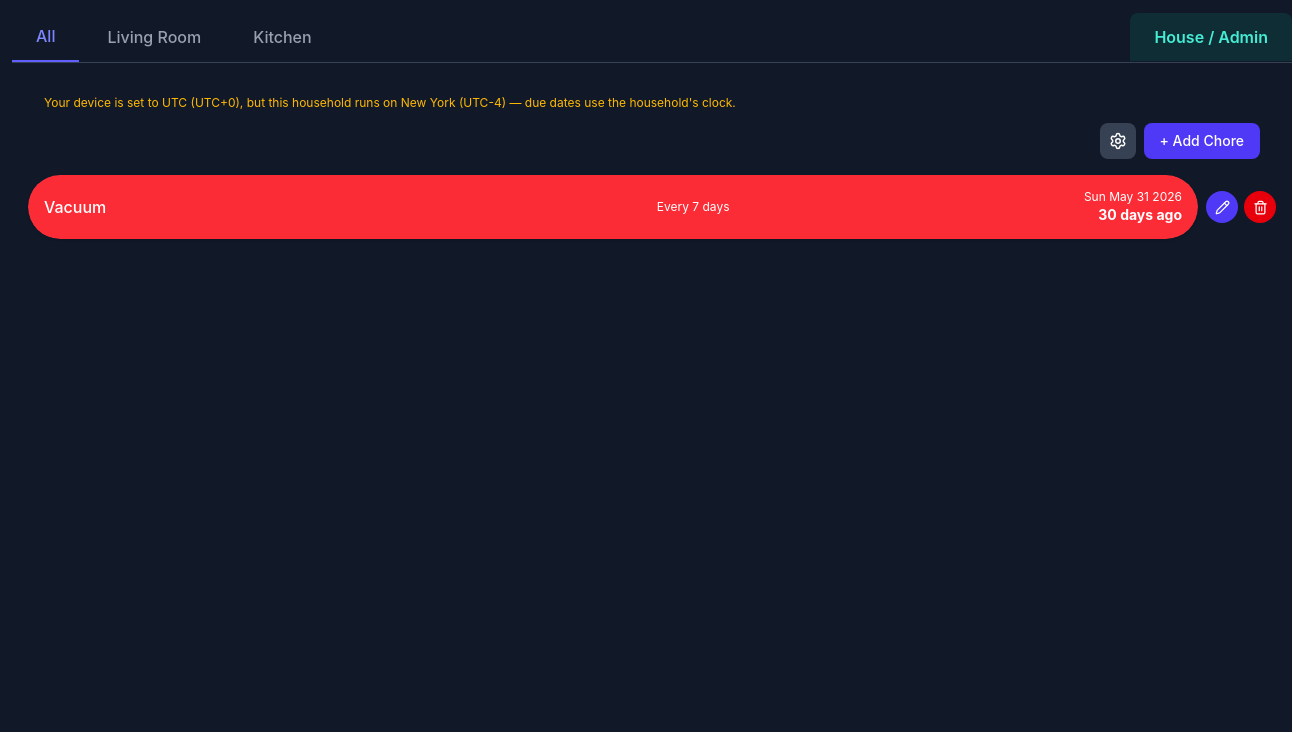
it: App › navigates back to Home when a room tab is clicked while on the Admin page
Expected: the text "Vacuum" is shown, x1=44 y1=197 x2=106 y2=217
Click the link with test id "admin-nav-link": (1211, 37) x1=1130 y1=13 x2=1291 y2=61
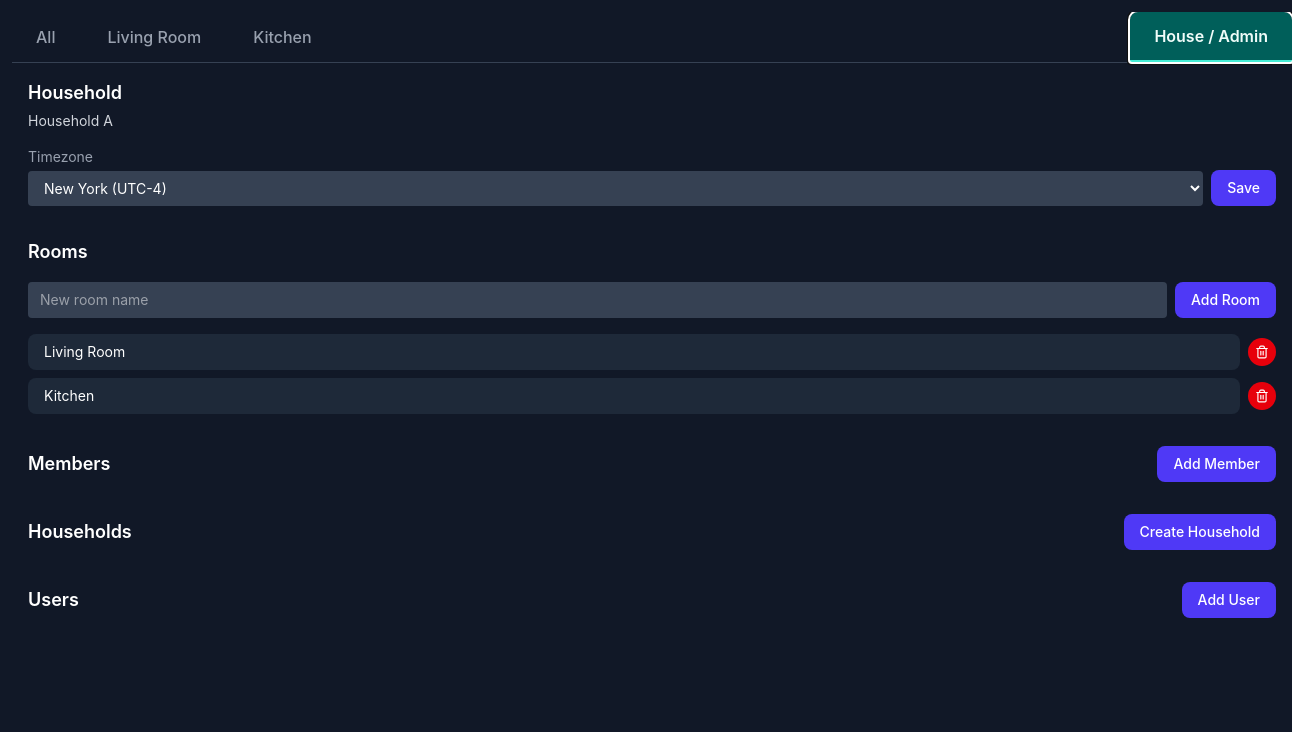
Expected: the heading "Members" is shown, x1=28 y1=450 x2=110 y2=478
Expected: the text "Vacuum" is gone
Click the button "All": (46, 37) x1=12 y1=13 x2=79 y2=61
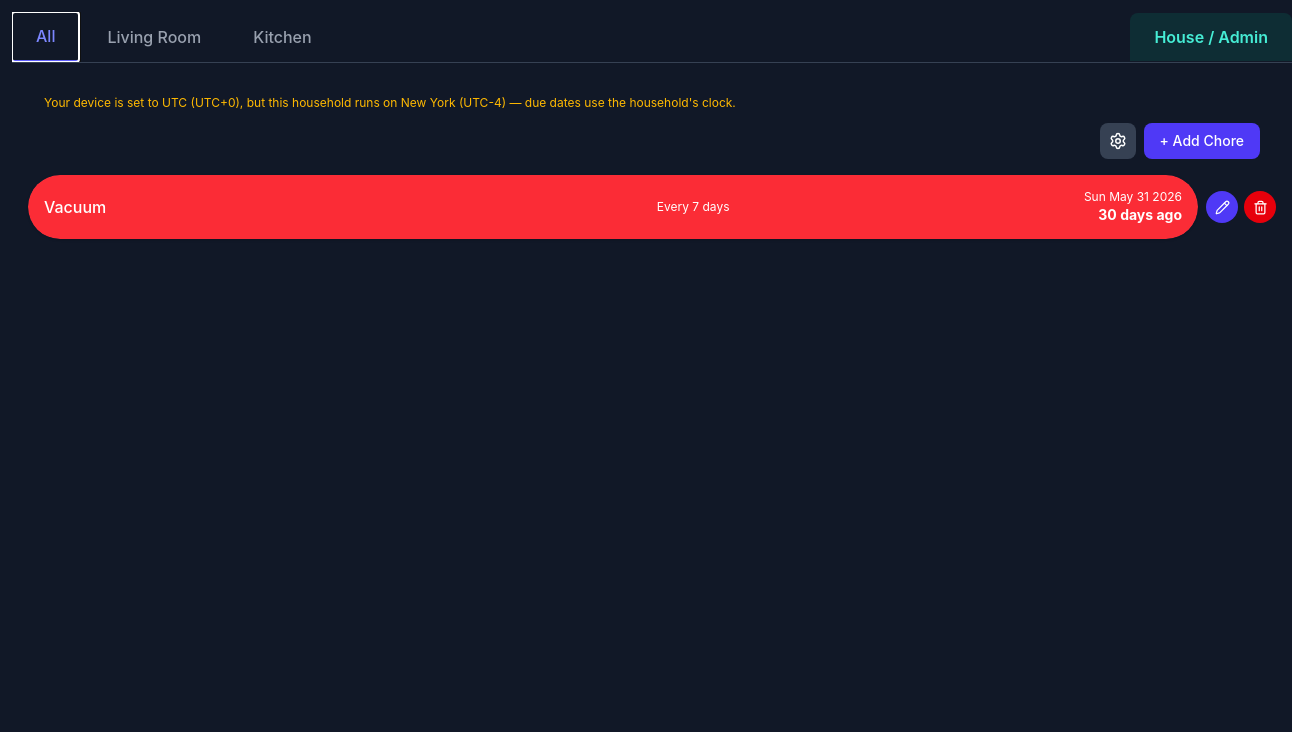
Expected: the text "Vacuum" is shown, x1=44 y1=197 x2=106 y2=217
Expected: the heading "Members" is gone
